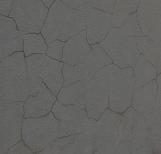fissura: (4, 2, 161, 154)
